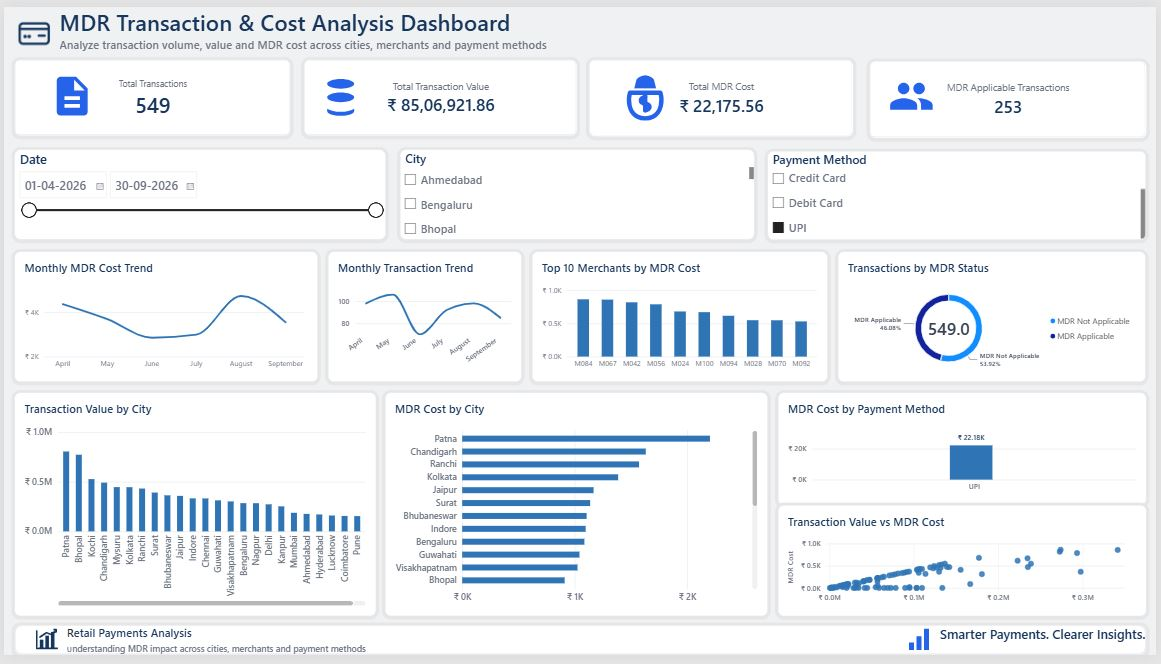

What the dashboard file says about the page in this screenshot:
{"tool":"powerbi","page":{"name":"Page 1","canvas":[1920,1080],"ordinal":0},"visuals":[{"type":"cardVisual","fields":{"Data":["_Measures.Total Transactions"]},"box":[17.5,87.5,460,127.5],"z":0},{"type":"cardVisual","fields":{"Data":["_Measures.Total Transaction Value"]},"box":[500,87.5,455,127.5],"z":1},{"type":"cardVisual","fields":{"Data":["_Measures.Total MDR Cost"]},"box":[975.3,86.7,440.8,128.9],"z":2},{"type":"cardVisual","fields":{"Data":["_Measures.MDR Applicable Transactions"]},"box":[1441.9,89.1,461.9,128.9],"z":3},{"type":"donutChart","title":"Transactions by MDR Status","fields":{"Category":["vw_mdr_transactions.Final MDR Status"],"Y":["_Measures.Total Transactions"]},"box":[1390,407.5,512.5,217.5],"z":4},{"type":"lineChart","title":"Monthly Transaction Trend","fields":{"Category":["dim_date.Date.Variation.Date Hierarchy.Month"],"Y":["_Measures.Total Transactions"]},"box":[540,407.5,322.5,217.5],"z":5},{"type":"lineChart","title":"Monthly MDR Cost Trend","fields":{"Category":["dim_date.Date.Variation.Date Hierarchy.Month"],"Y":["_Measures.Total MDR Cost"]},"box":[17.5,407.5,505,217.5],"z":6},{"type":"clusteredColumnChart","title":"Transaction Value by City","fields":{"Category":["dim_city.City"],"Y":["_Measures.Total Transaction Value"]},"box":[16.4,642.4,602.5,372.8],"z":7},{"type":"clusteredColumnChart","title":"MDR Cost by Payment Method","fields":{"Category":["dim_payment.Payment_Method"],"Y":["_Measures.Total MDR Cost"]},"box":[1289.5,642.4,614.3,187.6],"z":8},{"type":"clusteredColumnChart","title":"Top 10 Merchants by MDR Cost","fields":{"Category":["dim_merchant.Merchant_ID"],"Y":["_Measures.Total MDR Cost"]},"box":[880,407.5,492.5,217.5],"z":9},{"type":"clusteredBarChart","title":"MDR Cost by City","fields":{"Category":["dim_city.City"],"Y":["_Measures.Total MDR Cost"]},"box":[635.4,642.4,637.7,372.8],"z":10},{"type":"scatterChart","title":"Transaction Value vs MDR Cost","fields":{"Category":["dim_merchant.Merchant_ID"],"X":["_Measures.Total Transaction Value"],"Y":["_Measures.Total MDR Cost"]},"box":[1289.5,829.9,614.3,185.2],"z":11},{"type":"slicer","fields":{"Values":["dim_date.Date"]},"box":[16.4,236.8,618.9,150],"z":12},{"type":"slicer","fields":{"Values":["dim_payment.Payment_Method"]},"box":[1273.1,239.1,630.7,147.7],"z":13},{"type":"slicer","fields":{"Values":["dim_city.City"]},"box":[660,237.5,590.8,150],"z":14},{"type":"textbox","box":[91.4,0,815.9,107.8],"z":15},{"type":"actionButton","box":[0,0,100.8,89.1],"z":16},{"type":"shape","box":[16.7,1030,1886.7,50],"z":17},{"type":"textbox","box":[100,1030,620,50],"z":18},{"type":"textbox","box":[1560,1030,342.5,50],"z":19},{"type":"image","box":[17.5,1030,107.5,47.5],"z":20},{"type":"image","box":[75,110,77.5,77.5],"z":21},{"type":"image","box":[522.5,120,77.5,77.5],"z":22},{"type":"image","box":[1025,102.5,87.5,95],"z":23},{"type":"image","box":[1465,110,95,77.5],"z":24},{"type":"image","box":[1500,1030,50,50],"z":25}]}

Visuals, with their boxes in screenshot pixels (x1, y1, x2, y2), scaled from the page's 1920x1080 canvas onto the 1161x664 screenshot:
cardVisual - _Measures.Total Transactions: 11:54:289:132
cardVisual - _Measures.Total Transaction Value: 302:54:577:132
cardVisual - _Measures.Total MDR Cost: 590:53:856:133
cardVisual - _Measures.MDR Applicable Transactions: 872:55:1151:134
"Transactions by MDR Status" donutChart: 841:251:1150:384
"Monthly Transaction Trend" lineChart: 327:251:522:384
"Monthly MDR Cost Trend" lineChart: 11:251:316:384
"Transaction Value by City" clusteredColumnChart: 10:395:374:624
"MDR Cost by Payment Method" clusteredColumnChart: 780:395:1151:510
"Top 10 Merchants by MDR Cost" clusteredColumnChart: 532:251:830:384
"MDR Cost by City" clusteredBarChart: 384:395:770:624
"Transaction Value vs MDR Cost" scatterChart: 780:510:1151:624
slicer - dim_date.Date: 10:146:384:238
slicer - dim_payment.Payment_Method: 770:147:1151:238
slicer - dim_city.City: 399:146:756:238
textbox: 55:0:549:66
actionButton: 0:0:61:55
shape: 10:633:1151:663
textbox: 60:633:435:663
textbox: 943:633:1150:663
image: 11:633:76:662
image: 45:68:92:115
image: 316:74:363:121
image: 620:63:673:121
image: 886:68:943:115
image: 907:633:937:663
